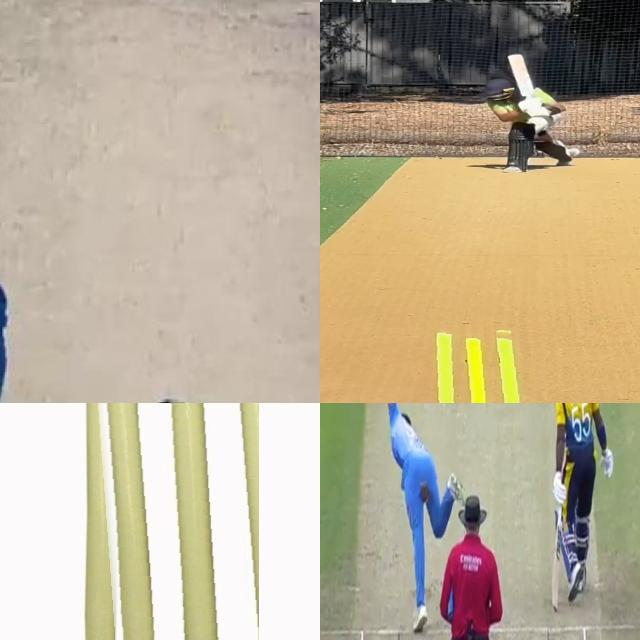Stumps: (77, 403, 259, 640), (419, 324, 535, 403)
